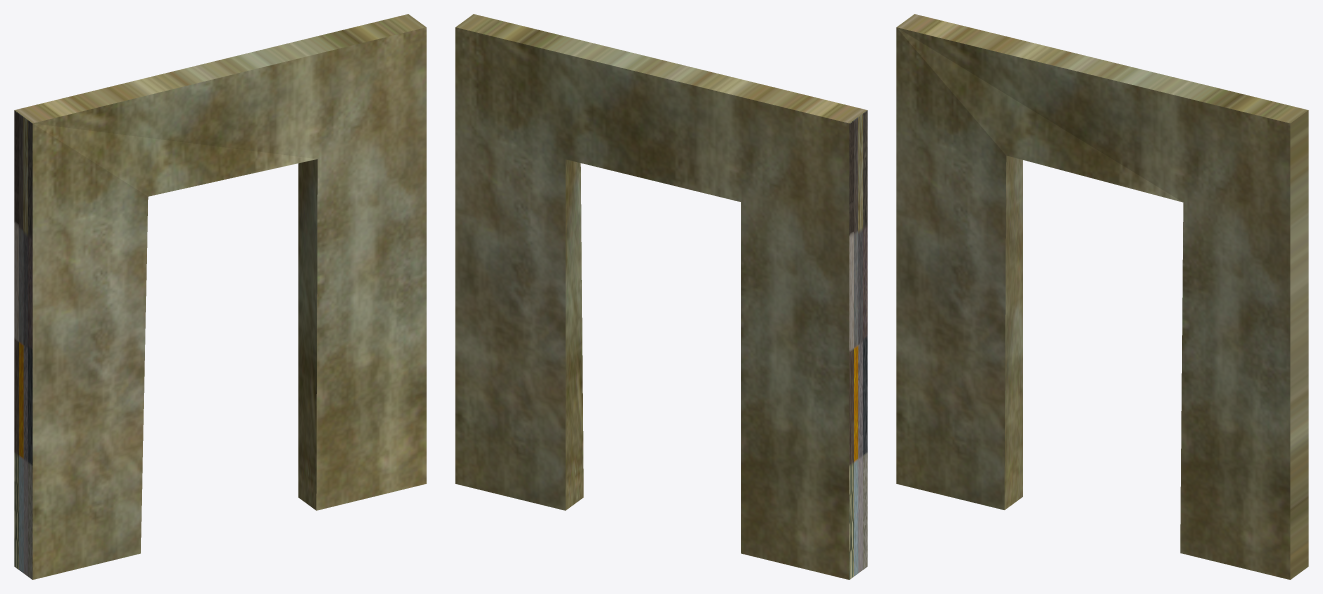
Rendered from wallDoorFrame1.fbx.
3 renders of one model, left to right at view 1: azimuth 30°, elevation 25°; view 2: azimuth 150°, elevation 25°; view 3: azimuth 330°, elevation 25°, orthographic.
Parts seen in each view (by area): view 1: WallDoorFrame.001; view 2: WallDoorFrame.001; view 3: WallDoorFrame.001.
Boxes of the visible parts, <box> form: WallDoorFrame.001: <box>14,14,426,579</box>; WallDoorFrame.001: <box>455,14,867,579</box>; WallDoorFrame.001: <box>896,14,1308,579</box>.
Size of the model in its own units: 250 by 277 by 23.21.
